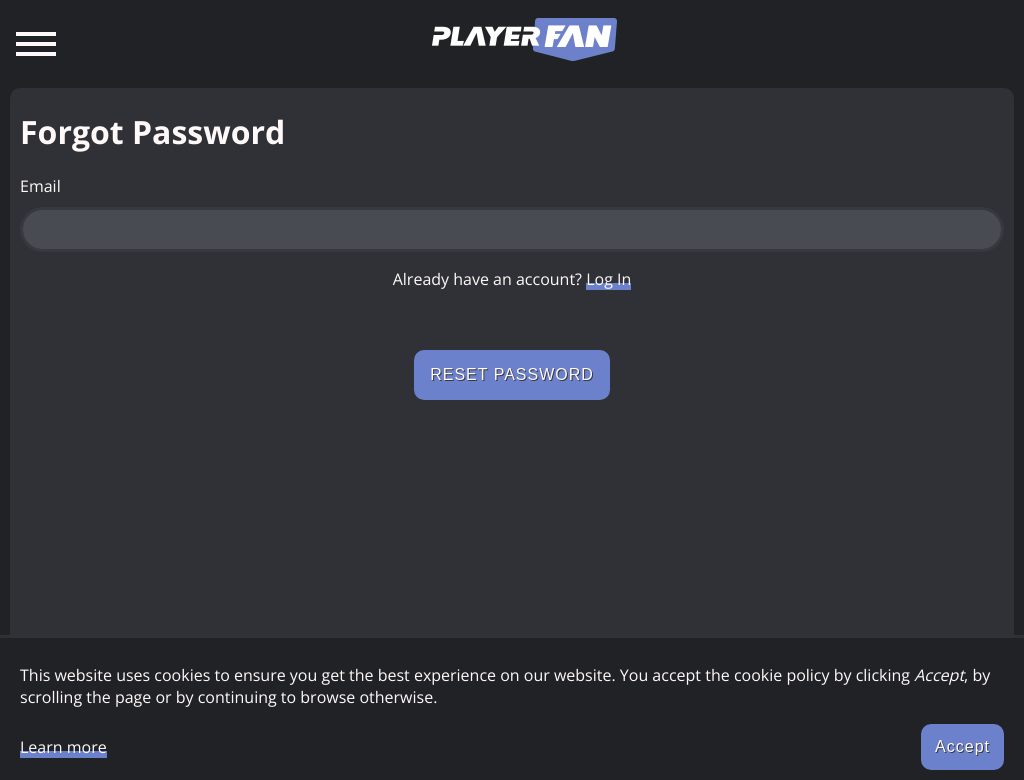
Test: /forgot-password/ › requires a valid email address
The image size is (1024, 780).
In the field with test id "forgot-password-field": (512, 230) [20,207,1004,252], type "aaa"
Then press Enter
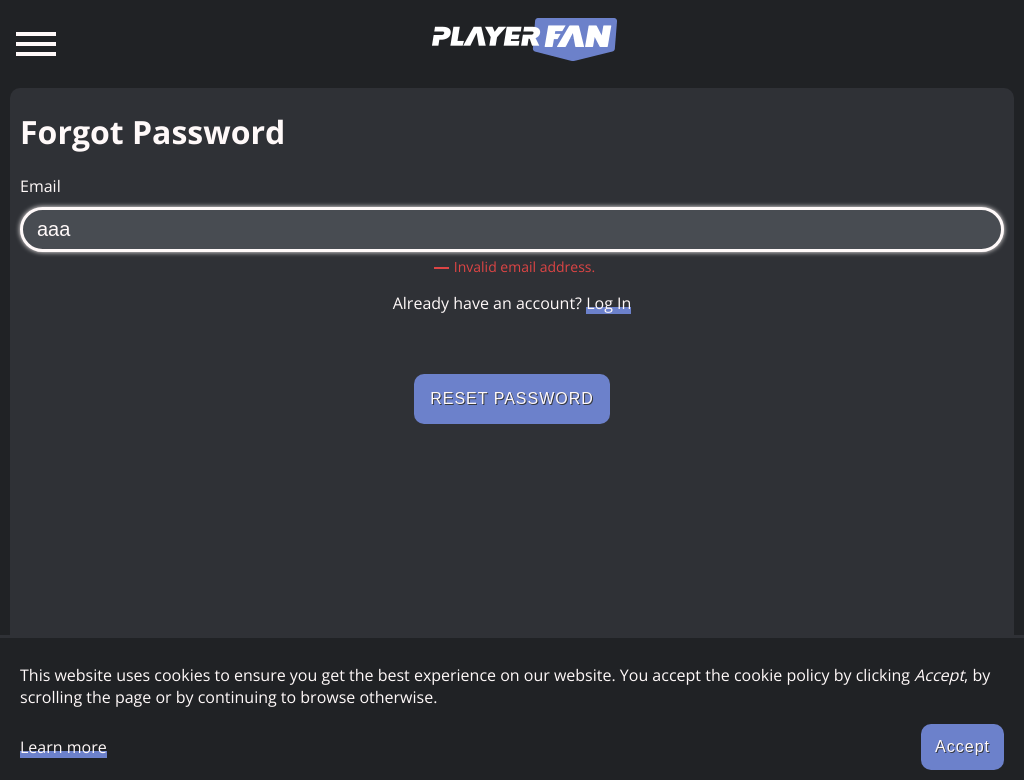
Result: the text with test id "form-error" shows "Invalid email address" at [454,257,595,276]
